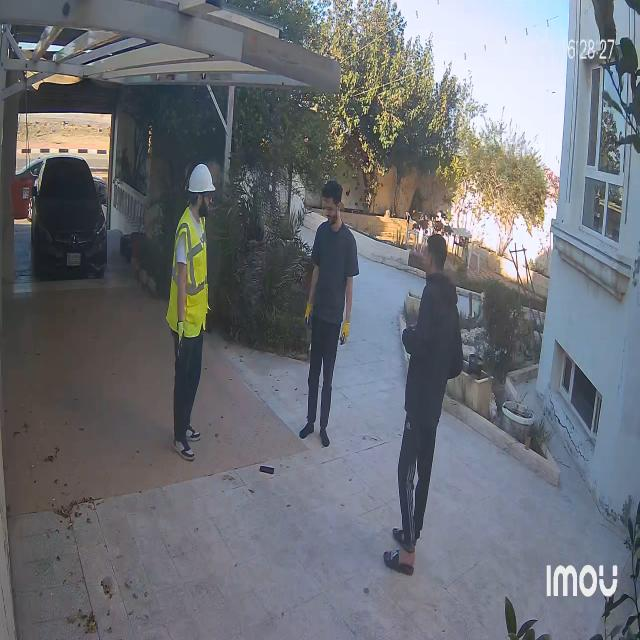gloves: (174, 320, 189, 364), (338, 318, 351, 348), (205, 303, 215, 338), (305, 298, 314, 327)
hardhat: (184, 157, 214, 191)
no_hardhat: (426, 226, 448, 254), (320, 178, 344, 200)
no_safety_shoes: (380, 546, 416, 580), (298, 420, 314, 440), (391, 525, 404, 544), (320, 427, 331, 448)
no_safety_vest: (412, 275, 468, 410), (315, 222, 356, 320)
safety_shoes: (172, 438, 195, 466), (186, 423, 203, 443)
safety_vest: (170, 208, 213, 330)
